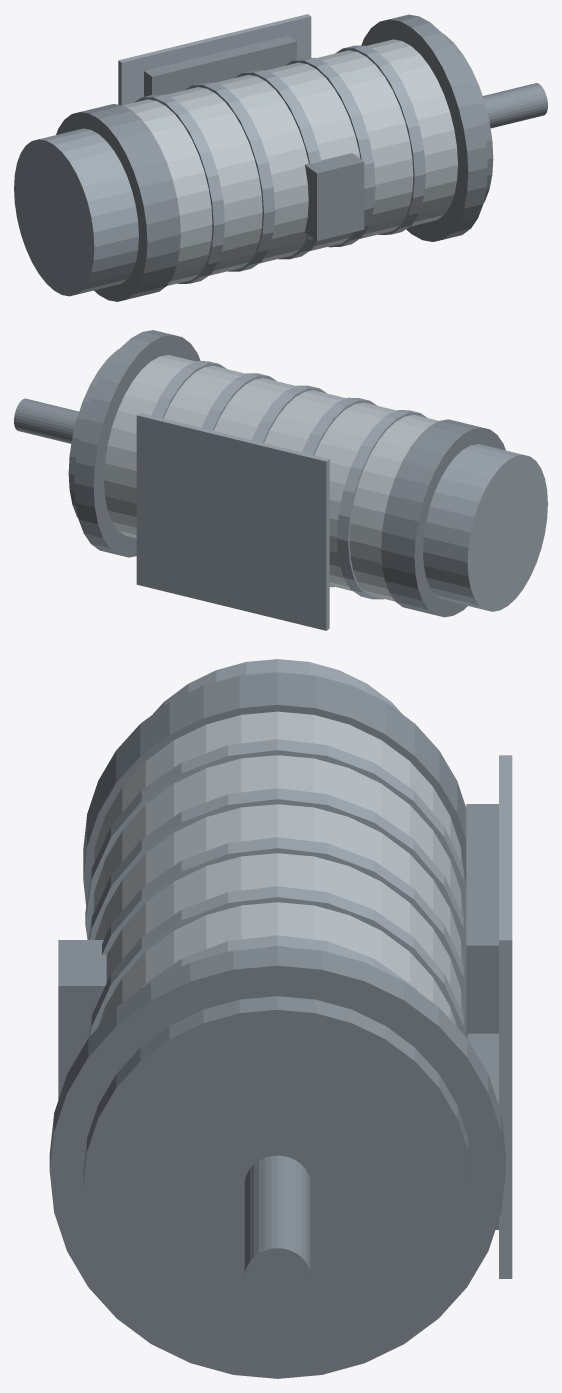
File: nema_56c.glb
3 renders of one model, top to bottom at view 1: azimuth 30°, elevation 25°; view 2: azimuth 150°, elevation 25°; view 3: azimuth 270°, elevation 25°, orthographic. The views are drawn at different scales.
Visible parts, largest first — view 1: nema_56c; view 2: nema_56c; view 3: nema_56c.
Boxes of the visible parts, x1=… form: nema_56c: x1=14, y1=14, x2=547, y2=301; nema_56c: x1=14, y1=330, x2=547, y2=630; nema_56c: x1=49, y1=659, x2=512, y2=1378.
Size of the model in its own units: 1.74 by 0.7076 by 0.7178.
